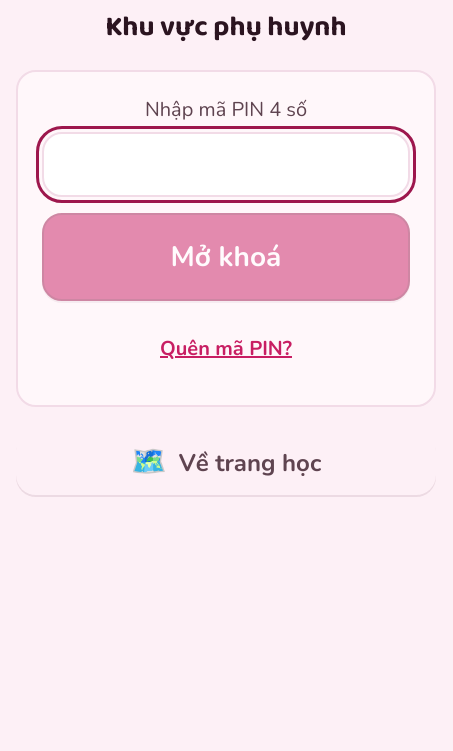
Test: ParentGatePage — quên mã PIN › bấm "Quên mã PIN?" ⇒ hiện form đặt lại (mật khẩu + PIN mới), ẩn form nhập PIN
Expected: the password field labelled "Nhập mã PIN" is shown, [42, 132, 410, 197]
Click the button "Quên mã PIN?".
click(226, 349)  # box [42, 317, 410, 381]
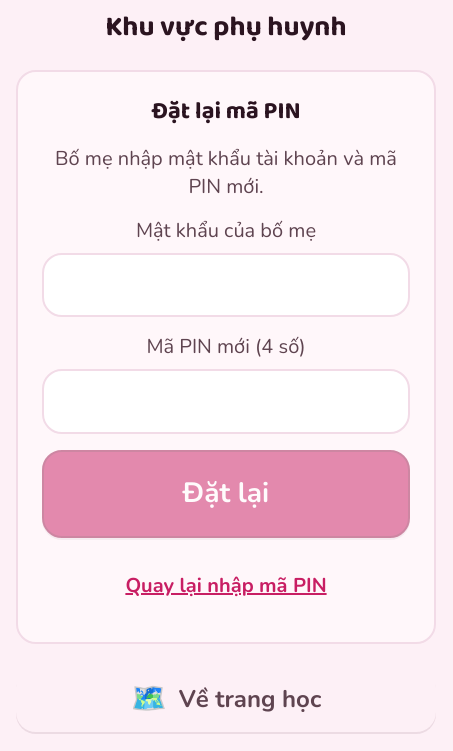
Expected: the password field labelled "Mật khẩu của bố mẹ" is shown, [42, 253, 410, 317]
